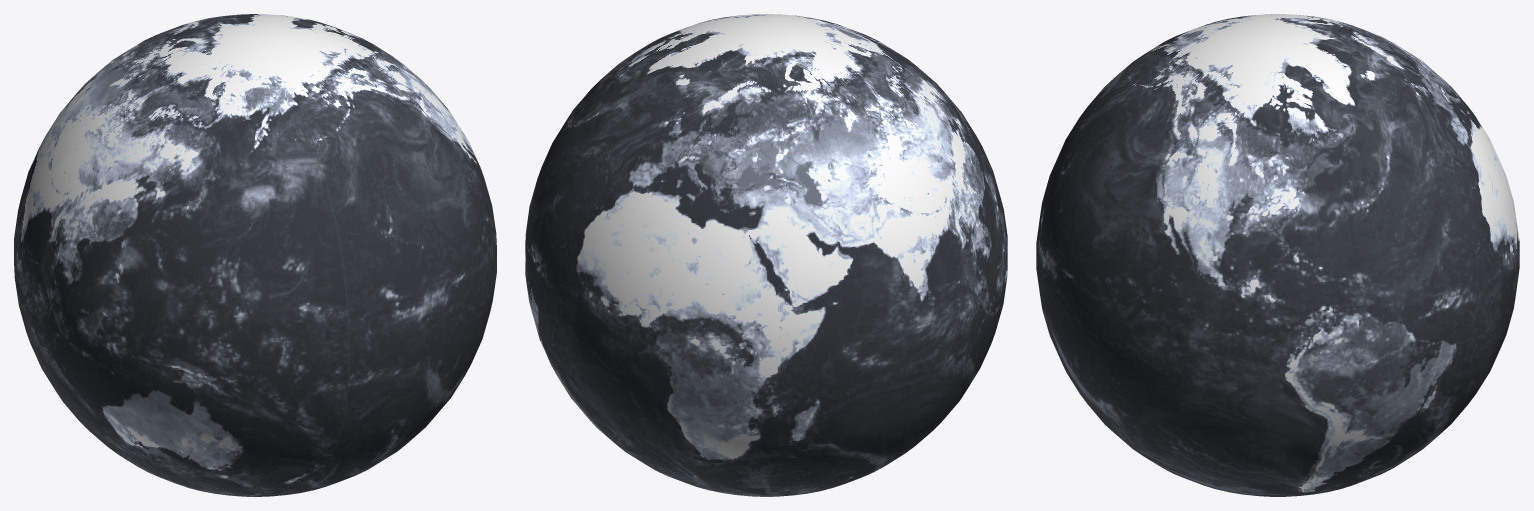
The model's file is globe.min.gltf.
3 renders of one model, left to right at view 1: azimuth 30°, elevation 25°; view 2: azimuth 150°, elevation 25°; view 3: azimuth 270°, elevation 25°, orthographic.
Visible parts, largest first — view 1: Sphere; view 2: Sphere; view 3: Sphere.
Boxes of the visible parts, x1,y1,x2,y2 form: Sphere: (14,14,496,496); Sphere: (525,14,1007,496); Sphere: (1036,14,1519,496).
Size of the model in its own units: 0.7974 by 0.8 by 0.7984.
1 material, 1 textured.
